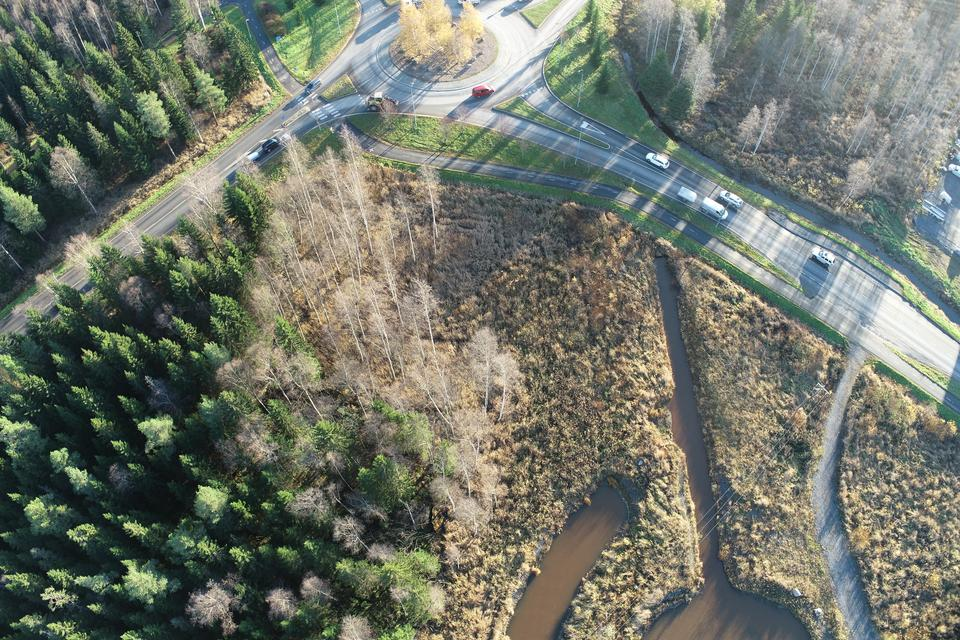intersection: (800, 188, 923, 404), (270, 76, 340, 166)
roundabout: (343, 0, 574, 164)
